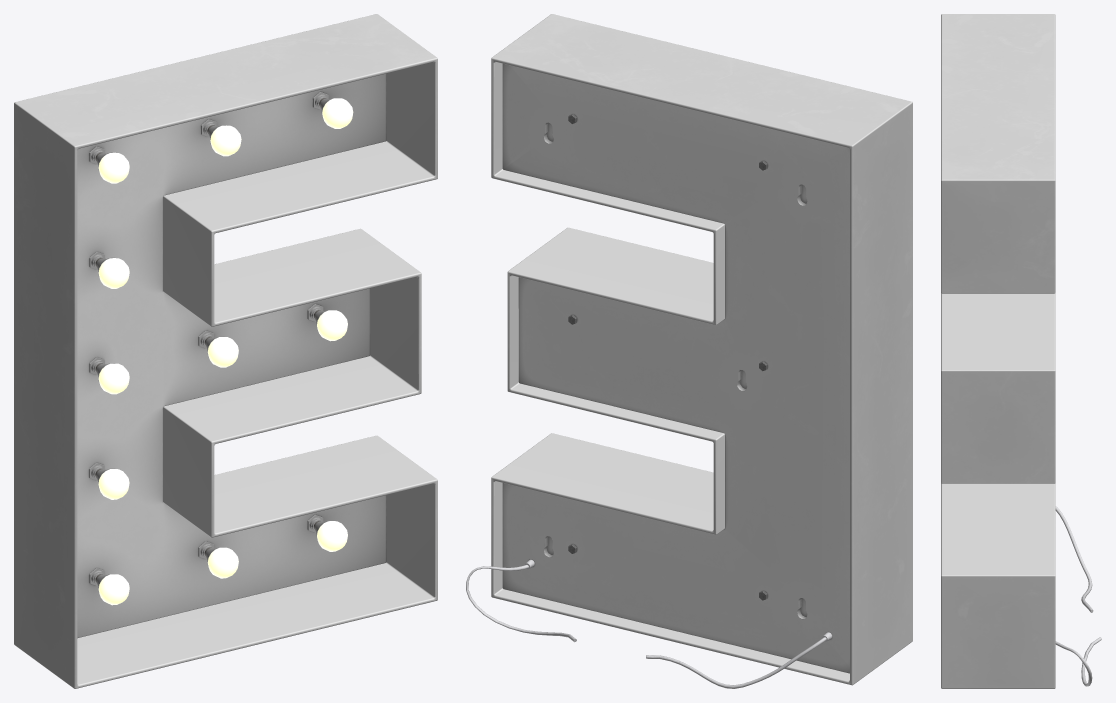
The model's file is E_Letter_bulbs1.glb.
3 views of the same model, side by side, from view 1: azimuth 30°, elevation 25°; view 2: azimuth 150°, elevation 25°; view 3: azimuth 270°, elevation 25° (orthographic). The views are drawn at different scales.
Parts seen in each view (by area): view 1: E_bulb, Bulbs; view 2: E_bulb; view 3: E_bulb.
Boxes of the visible parts, bbox=[...] form: E_bulb: bbox=[14, 14, 437, 688]; Bulbs: bbox=[98, 98, 353, 605]; E_bulb: bbox=[466, 14, 912, 688]; E_bulb: bbox=[941, 14, 1101, 688].
Size of the model in its own units: 0.6596 by 0.9474 by 0.2639.
2 materials, 1 textured.
